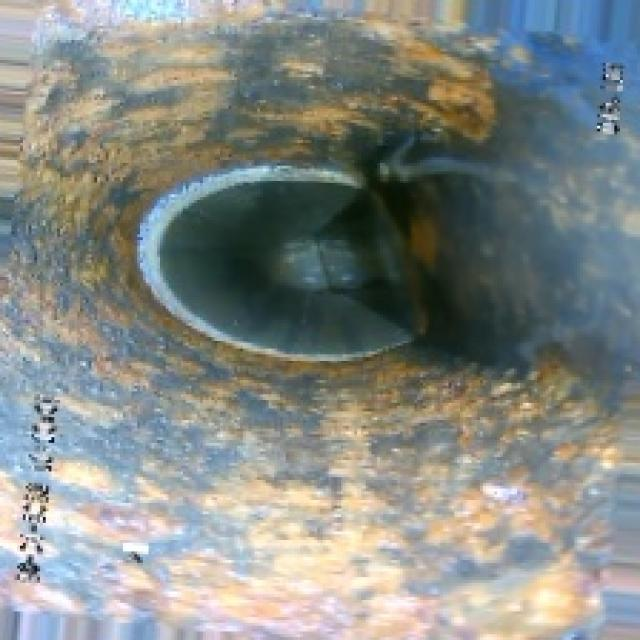encrustation: (57, 60, 557, 546)
